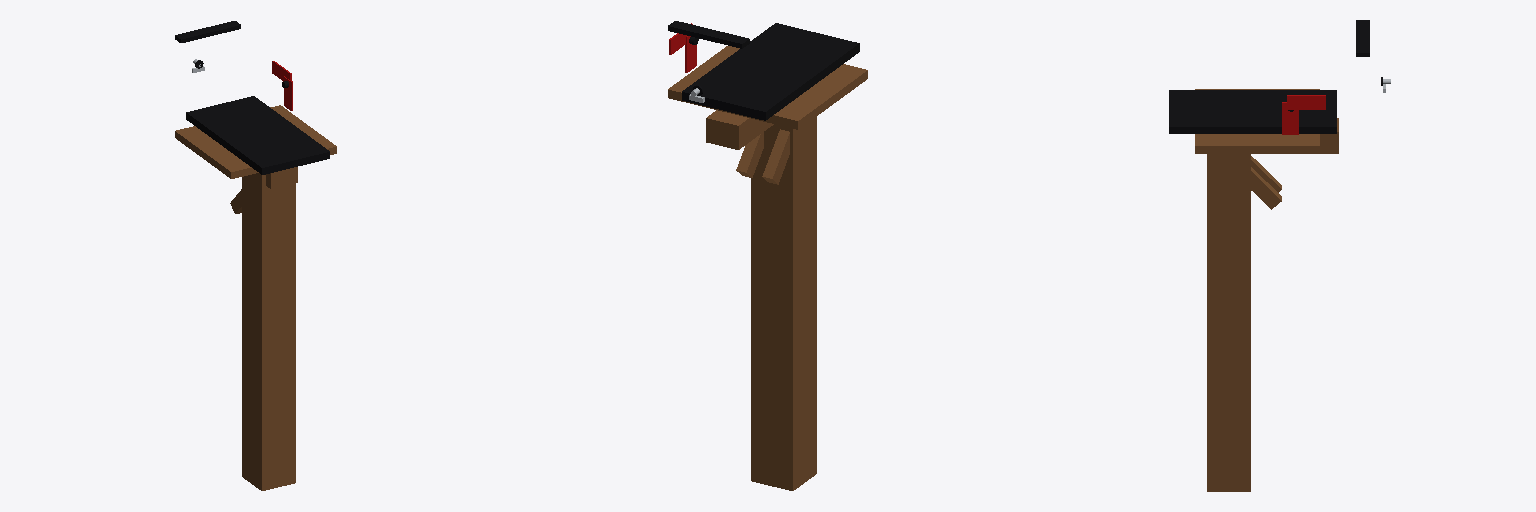
The robot description file, URDF, robot "weatherproof_mailbox":
<robot name="weatherproof_mailbox">
  <link name="support">
    <inertial>
      <origin xyz="0 -0.01 0.43" rpy="0 0 0" />
      <mass value="7.5" />
      <inertia ixx="0.54325" ixy="0" ixz="0" iyy="0.5185" iyz="0" izz="0.13725" />
    </inertial>
    <visual>
      <origin xyz="0 -0.06 0.412" rpy="0 0 0" />
      <geometry>
        <box size="0.09 0.09 0.824" />
      </geometry>
      <material name="cedar_post">
        <color rgba="0.5 0.35 0.22 1" />
      </material>
    </visual>
    <visual>
      <origin xyz="0 0 0.831" rpy="0 0 0" />
      <geometry>
        <box size="0.28 0.26 0.018" />
      </geometry>
      <material name="cedar_post">
        <color rgba="0.5 0.35 0.22 1" />
      </material>
    </visual>
    <visual>
      <origin xyz="0 0.02 0.797" rpy="0 0 0" />
      <geometry>
        <box size="0.07 0.3 0.05" />
      </geometry>
      <material name="cedar_post">
        <color rgba="0.5 0.35 0.22 1" />
      </material>
    </visual>
    <visual>
      <origin xyz="0.028 -0.025 0.725" rpy="-0.82 0 0" />
      <geometry>
        <box size="0.022 0.19 0.03" />
      </geometry>
      <material name="cedar_post">
        <color rgba="0.5 0.35 0.22 1" />
      </material>
    </visual>
    <visual>
      <origin xyz="-0.028 -0.025 0.725" rpy="-0.82 0 0" />
      <geometry>
        <box size="0.022 0.19 0.03" />
      </geometry>
      <material name="cedar_post">
        <color rgba="0.5 0.35 0.22 1" />
      </material>
    </visual>
    <collision name="support__visual_1">
      <origin xyz="0 -0.06 0.412" rpy="0 0 0" />
      <geometry>
        <box size="0.09 0.09 0.824" />
      </geometry>
    </collision>
    <collision name="support__visual_2">
      <origin xyz="0 0 0.831" rpy="0 0 0" />
      <geometry>
        <box size="0.28 0.26 0.018" />
      </geometry>
    </collision>
    <collision name="support__visual_3">
      <origin xyz="0 0.02 0.797" rpy="0 0 0" />
      <geometry>
        <box size="0.07 0.3 0.05" />
      </geometry>
    </collision>
    <collision name="support__visual_4">
      <origin xyz="0.028 -0.025 0.725" rpy="-0.82 0 0" />
      <geometry>
        <box size="0.022 0.19 0.03" />
      </geometry>
    </collision>
    <collision name="support__visual_5">
      <origin xyz="-0.028 -0.025 0.725" rpy="-0.82 0 0" />
      <geometry>
        <box size="0.022 0.19 0.03" />
      </geometry>
    </collision>
  </link>
  <link name="body">
    <inertial>
      <origin xyz="0 0 0.09" rpy="0 0 0" />
      <mass value="2.6" />
      <inertia ixx="0.0628333" ixy="0" ixz="0" iyy="0.0222083" iyz="0" izz="0.0677083" />
    </inertial>
    <visual>
      <geometry>
        <mesh filename="meshes/mailbox_shell.glb" />
      </geometry>
      <material name="painted_green">
        <color rgba="0.19 0.3 0.2 1" />
      </material>
    </visual>
    <visual>
      <origin xyz="0 -0.233 0" rpy="0 0 0" />
      <geometry>
        <mesh filename="meshes/mailbox_rear_cap.glb" />
      </geometry>
      <material name="painted_green">
        <color rgba="0.19 0.3 0.2 1" />
      </material>
    </visual>
    <visual>
      <origin xyz="0 0.234 0" rpy="0 0 0" />
      <geometry>
        <mesh filename="meshes/mailbox_front_frame.glb" />
      </geometry>
      <material name="trim_black">
        <color rgba="0.1 0.1 0.11 1" />
      </material>
    </visual>
    <visual>
      <origin xyz="0 -0.01 0.009" rpy="0 0 0" />
      <geometry>
        <box size="0.18 0.35 0.018" />
      </geometry>
      <material name="trim_black">
        <color rgba="0.1 0.1 0.11 1" />
      </material>
    </visual>
    <visual>
      <origin xyz="0 0.22 0.178" rpy="0 0 0" />
      <geometry>
        <box size="0.16 0.028 0.01" />
      </geometry>
      <material name="trim_black">
        <color rgba="0.1 0.1 0.11 1" />
      </material>
    </visual>
    <visual>
      <origin xyz="0.121 0.07 0.078" rpy="0 1.5708 0" />
      <geometry>
        <cylinder radius="0.008" length="0.016" />
      </geometry>
      <material name="trim_black">
        <color rgba="0.1 0.1 0.11 1" />
      </material>
    </visual>
    <visual>
      <origin xyz="0.126 0.069 0.053" rpy="0 0 0" />
      <geometry>
        <box size="0.004 0.036 0.074" />
      </geometry>
      <material name="signal_red">
        <color rgba="0.73 0.1 0.1 1" />
      </material>
    </visual>
    <visual>
      <origin xyz="0.128 0.102 0.091" rpy="0 0 0" />
      <geometry>
        <box size="0.004 0.082 0.032" />
      </geometry>
      <material name="signal_red">
        <color rgba="0.73 0.1 0.1 1" />
      </material>
    </visual>
    <collision name="body__visual_1__hull_001">
      <geometry>
        <mesh filename="meshes/collision/cache/650f9a337f775758f989ee38__hull_001.obj" />
      </geometry>
    </collision>
    <collision name="body__visual_2__hull_001">
      <origin xyz="0 -0.233 0" rpy="0 0 0" />
      <geometry>
        <mesh filename="meshes/collision/cache/388cee005ac150bb06f939fc__hull_001.obj" />
      </geometry>
    </collision>
    <collision name="body__visual_3__hull_001">
      <origin xyz="0 0.234 0" rpy="0 0 0" />
      <geometry>
        <mesh filename="meshes/collision/cache/fe83fa65b6971d23b076ff8e__hull_001.obj" />
      </geometry>
    </collision>
    <collision name="body__visual_3__hull_002">
      <origin xyz="0 0.234 0" rpy="0 0 0" />
      <geometry>
        <mesh filename="meshes/collision/cache/fe83fa65b6971d23b076ff8e__hull_002.obj" />
      </geometry>
    </collision>
    <collision name="body__visual_3__hull_003">
      <origin xyz="0 0.234 0" rpy="0 0 0" />
      <geometry>
        <mesh filename="meshes/collision/cache/fe83fa65b6971d23b076ff8e__hull_003.obj" />
      </geometry>
    </collision>
    <collision name="body__visual_3__hull_004">
      <origin xyz="0 0.234 0" rpy="0 0 0" />
      <geometry>
        <mesh filename="meshes/collision/cache/fe83fa65b6971d23b076ff8e__hull_004.obj" />
      </geometry>
    </collision>
    <collision name="body__visual_3__hull_005">
      <origin xyz="0 0.234 0" rpy="0 0 0" />
      <geometry>
        <mesh filename="meshes/collision/cache/fe83fa65b6971d23b076ff8e__hull_005.obj" />
      </geometry>
    </collision>
    <collision name="body__visual_3__hull_006">
      <origin xyz="0 0.234 0" rpy="0 0 0" />
      <geometry>
        <mesh filename="meshes/collision/cache/fe83fa65b6971d23b076ff8e__hull_006.obj" />
      </geometry>
    </collision>
    <collision name="body__visual_3__hull_007">
      <origin xyz="0 0.234 0" rpy="0 0 0" />
      <geometry>
        <mesh filename="meshes/collision/cache/fe83fa65b6971d23b076ff8e__hull_007.obj" />
      </geometry>
    </collision>
    <collision name="body__visual_3__hull_008">
      <origin xyz="0 0.234 0" rpy="0 0 0" />
      <geometry>
        <mesh filename="meshes/collision/cache/fe83fa65b6971d23b076ff8e__hull_008.obj" />
      </geometry>
    </collision>
    <collision name="body__visual_3__hull_009">
      <origin xyz="0 0.234 0" rpy="0 0 0" />
      <geometry>
        <mesh filename="meshes/collision/cache/fe83fa65b6971d23b076ff8e__hull_009.obj" />
      </geometry>
    </collision>
    <collision name="body__visual_4">
      <origin xyz="0 -0.01 0.009" rpy="0 0 0" />
      <geometry>
        <box size="0.18 0.35 0.018" />
      </geometry>
    </collision>
    <collision name="body__visual_5">
      <origin xyz="0 0.22 0.178" rpy="0 0 0" />
      <geometry>
        <box size="0.16 0.028 0.01" />
      </geometry>
    </collision>
    <collision name="body__visual_6">
      <origin xyz="0.121 0.07 0.078" rpy="0 1.5708 0" />
      <geometry>
        <cylinder radius="0.008" length="0.016" />
      </geometry>
    </collision>
    <collision name="body__visual_7">
      <origin xyz="0.126 0.069 0.053" rpy="0 0 0" />
      <geometry>
        <box size="0.004 0.036 0.074" />
      </geometry>
    </collision>
    <collision name="body__visual_8">
      <origin xyz="0.128 0.102 0.091" rpy="0 0 0" />
      <geometry>
        <box size="0.004 0.082 0.032" />
      </geometry>
    </collision>
  </link>
  <link name="door">
    <inertial>
      <origin xyz="0 0.009 0.085" rpy="0 0 0" />
      <mass value="0.45" />
      <inertia ixx="0.00110869" ixy="0" ixz="0" iyy="0.00275029" iyz="0" izz="0.0016659" />
    </inertial>
    <visual>
      <origin xyz="0 0.009 0" rpy="0 0 0" />
      <geometry>
        <mesh filename="meshes/mailbox_door.glb" />
      </geometry>
      <material name="painted_green">
        <color rgba="0.19 0.3 0.2 1" />
      </material>
    </visual>
    <visual>
      <origin xyz="0 0.02 0.08" rpy="1.5708 0 0" />
      <geometry>
        <cylinder radius="0.01" length="0.004" />
      </geometry>
      <material name="trim_black">
        <color rgba="0.1 0.1 0.11 1" />
      </material>
    </visual>
    <visual>
      <origin xyz="0 0.028 0.08" rpy="1.5708 0 0" />
      <geometry>
        <cylinder radius="0.0055" length="0.02" />
      </geometry>
      <material name="brushed_steel">
        <color rgba="0.72 0.74 0.76 1" />
      </material>
    </visual>
    <visual>
      <origin xyz="0 0.025 0.065" rpy="0 0 0" />
      <geometry>
        <box size="0.03 0.006 0.01" />
      </geometry>
      <material name="brushed_steel">
        <color rgba="0.72 0.74 0.76 1" />
      </material>
    </visual>
    <collision name="door__visual_1__hull_001">
      <origin xyz="0 0.009 0" rpy="0 0 0" />
      <geometry>
        <mesh filename="meshes/collision/cache/f4e51ba7b83551b06883c905__hull_001.obj" />
      </geometry>
    </collision>
    <collision name="door__visual_2">
      <origin xyz="0 0.02 0.08" rpy="1.5708 0 0" />
      <geometry>
        <cylinder radius="0.01" length="0.004" />
      </geometry>
    </collision>
    <collision name="door__visual_3">
      <origin xyz="0 0.028 0.08" rpy="1.5708 0 0" />
      <geometry>
        <cylinder radius="0.0055" length="0.02" />
      </geometry>
    </collision>
    <collision name="door__visual_4">
      <origin xyz="0 0.025 0.065" rpy="0 0 0" />
      <geometry>
        <box size="0.03 0.006 0.01" />
      </geometry>
    </collision>
  </link>
  <joint name="support_to_body" type="fixed">
    <origin xyz="0 0 0.843" rpy="0 0 0" />
    <parent link="support" />
    <child link="body" />
  </joint>
  <joint name="front_access_door" type="revolute">
    <origin xyz="0 0.24 0" rpy="0 0 0" />
    <parent link="body" />
    <child link="door" />
    <axis xyz="-1 0 0" />
    <limit effort="8" velocity="2.5" lower="0" upper="1.5" />
  </joint>
</robot>

--- What the picture shows (computed from the rendered views, not written in the file) ---
3 views of the same robot in one strip: view 1: azimuth 30°, elevation 25°; view 2: azimuth 150°, elevation 25°; view 3: azimuth 270°, elevation 25° (orthographic).
Model weatherproof_mailbox with 3 links and 2 joints (1 revolute, 1 fixed), rooted at support, posed all joints at 0.
Visible links, largest first — view 1: support, body; view 2: support, body; view 3: support, body.
Link boxes in pixels (x1,y1,x2,y2): support: (175, 105, 336, 490); body: (175, 21, 329, 174); support: (668, 46, 867, 490); body: (668, 21, 859, 120); support: (1195, 89, 1338, 491); body: (1169, 20, 1369, 134).
Size in the robot's own frame: 0.28 by 0.463 by 1.03 metres.
Meshes: 4 distinct files referenced, 0 mesh visuals loaded (none loaded); not drawn: 4 (reference not matched to a file when rendering).
